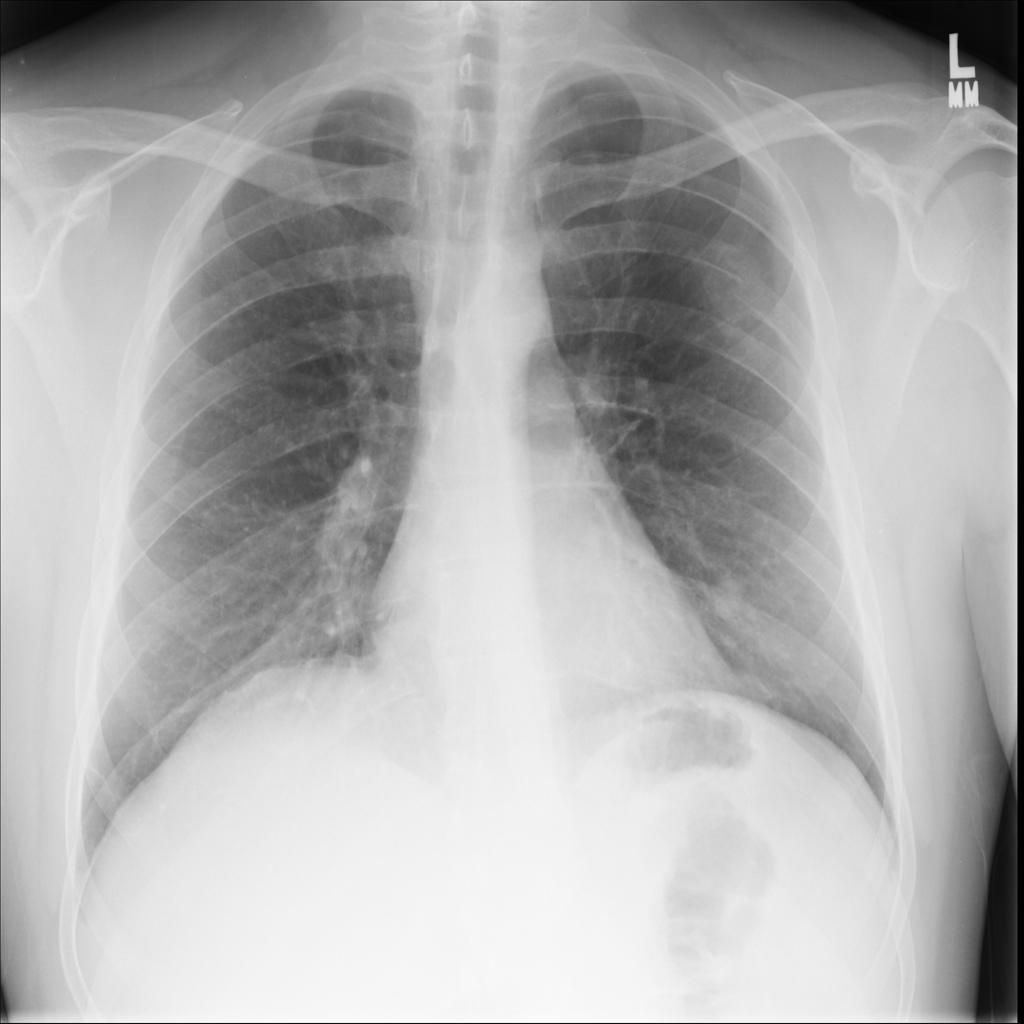nodule: (671, 214, 790, 342), (697, 555, 764, 633)
